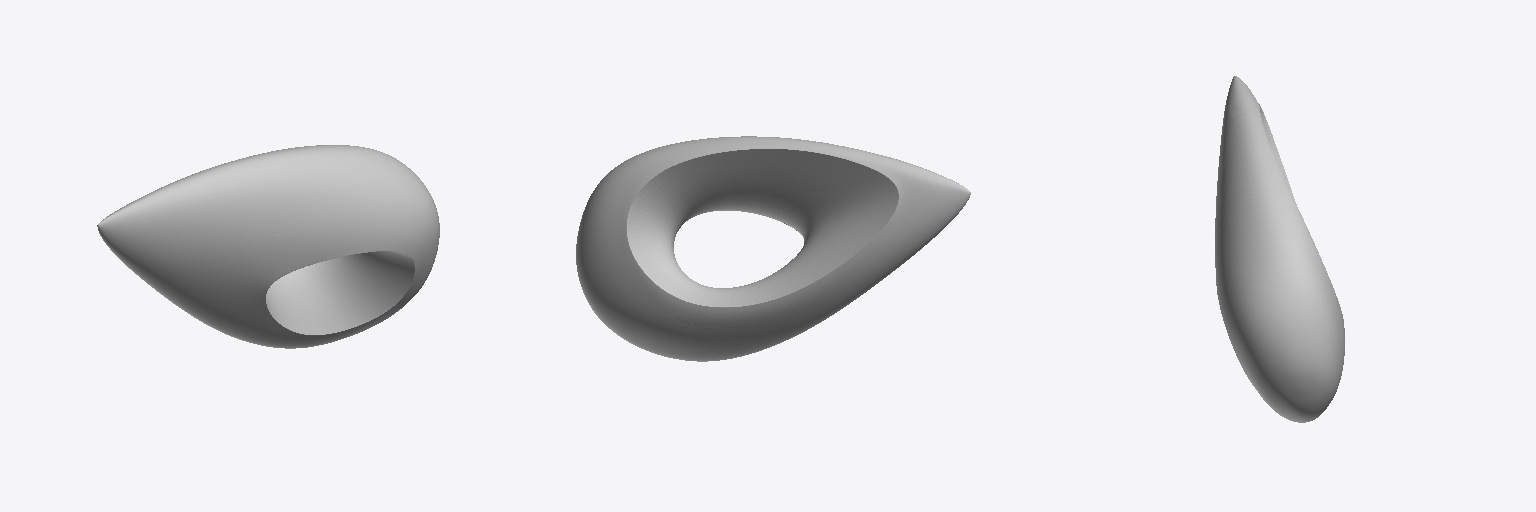
The model's file is ashapes_04.obj.
3 renders of one model, left to right at view 1: azimuth 30°, elevation 25°; view 2: azimuth 150°, elevation 25°; view 3: azimuth 270°, elevation 25°, orthographic.
Visible parts, largest first — view 1: Shape_4; view 2: Shape_4; view 3: Shape_4.
Part boxes in pixels (left/top/right/bottom): Shape_4: left=97, top=145, right=439, bottom=348; Shape_4: left=576, top=136, right=970, bottom=361; Shape_4: left=1215, top=76, right=1344, bottom=422.
Size of the model in its own units: 40.34 by 23.73 by 12.56.